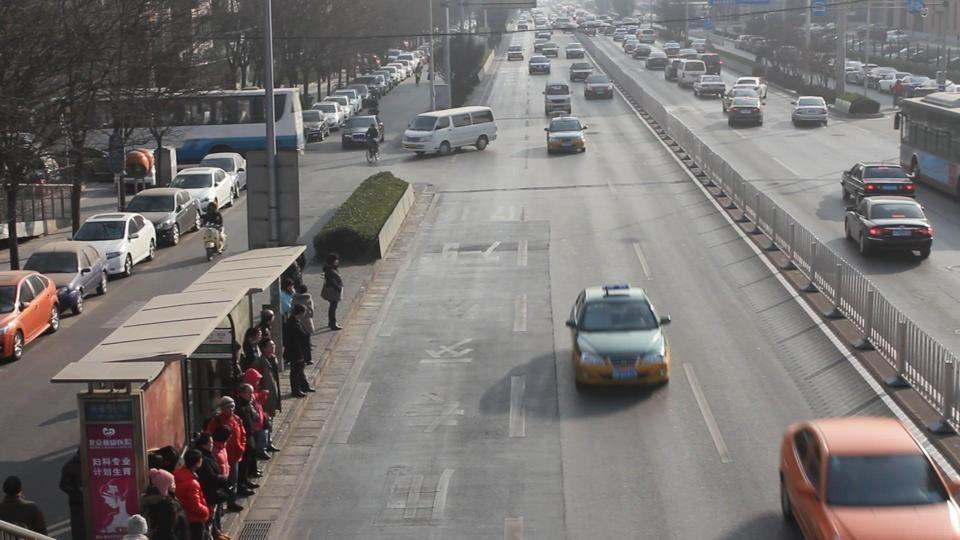car: (778, 415, 960, 538), (564, 282, 673, 388), (21, 241, 109, 314), (842, 195, 935, 261), (0, 269, 62, 366), (70, 211, 157, 277), (400, 105, 499, 157), (124, 187, 200, 247), (841, 162, 917, 212), (169, 166, 237, 214), (542, 84, 580, 153), (201, 151, 248, 196), (545, 116, 588, 155), (725, 87, 765, 128), (341, 115, 380, 149), (791, 96, 830, 128), (313, 99, 351, 130), (335, 85, 379, 111), (543, 80, 572, 118), (354, 71, 397, 96), (302, 109, 331, 140), (584, 72, 614, 100), (693, 75, 726, 99), (569, 62, 595, 82), (528, 55, 550, 76)
